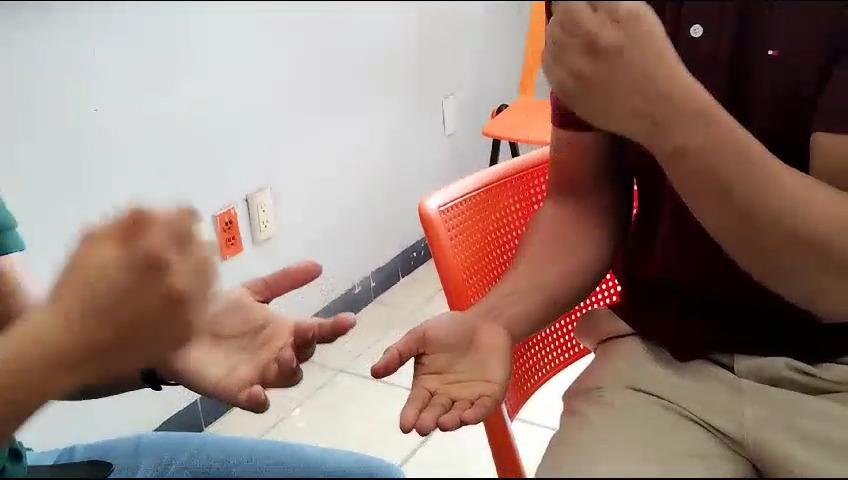Paper: (175, 245, 348, 443), (374, 288, 517, 472)
Stone: (487, 10, 671, 143)
